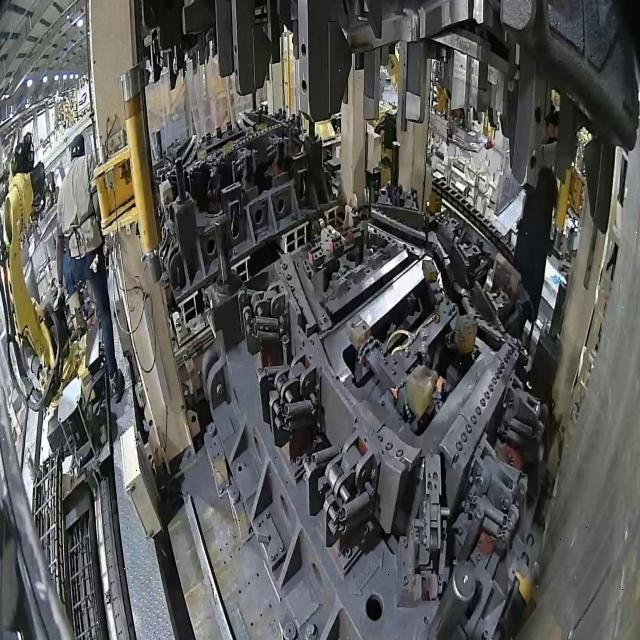Person: (56, 133, 126, 404), (512, 110, 560, 342)
